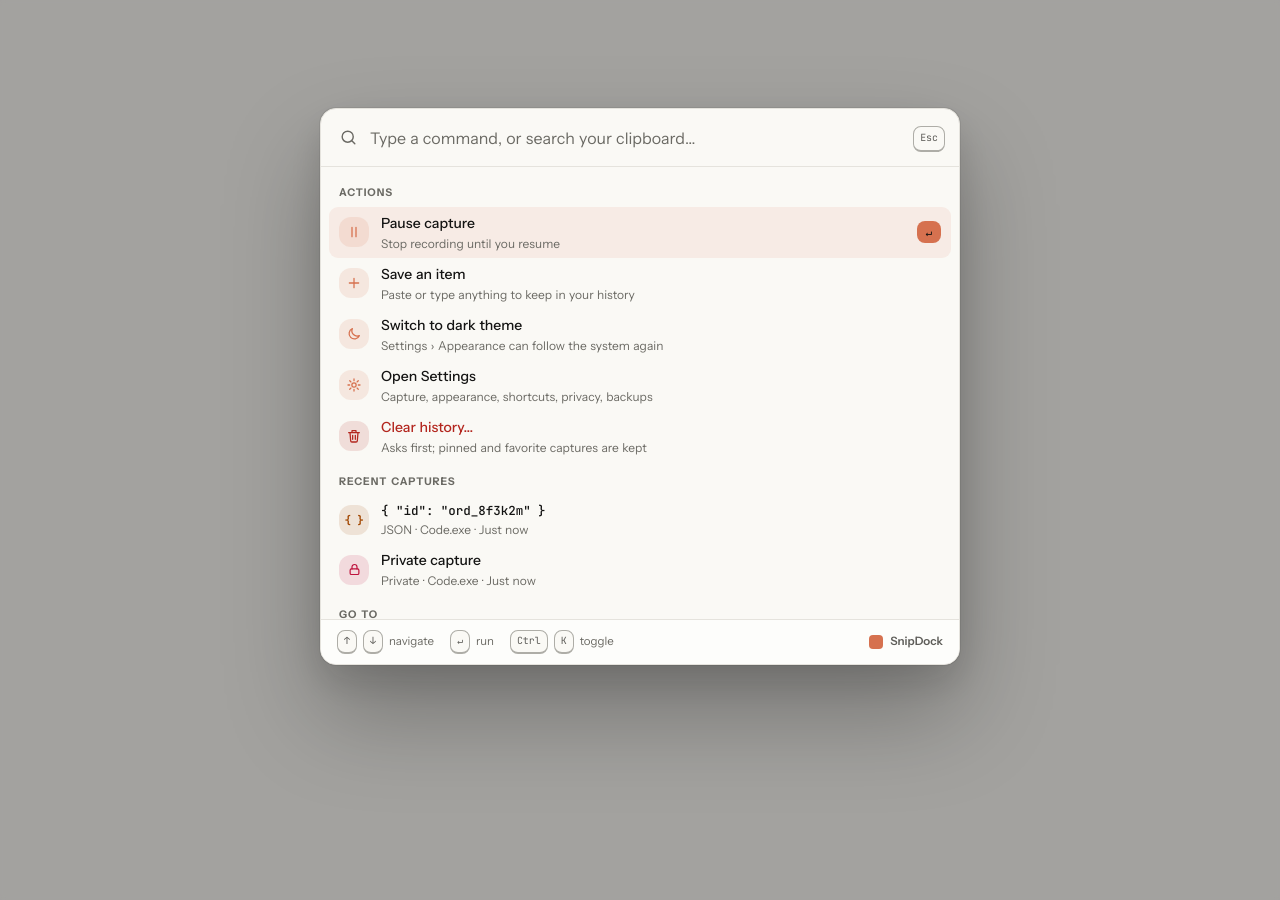
Test: CommandPalette › names a private capture without showing or matching its text
Expected: the text "Private capture" is shown, [381,551,481,569]
Type "sk_live" into the dropdown named "Command or search" at coordinates (636, 138), box [370,109,901,166]
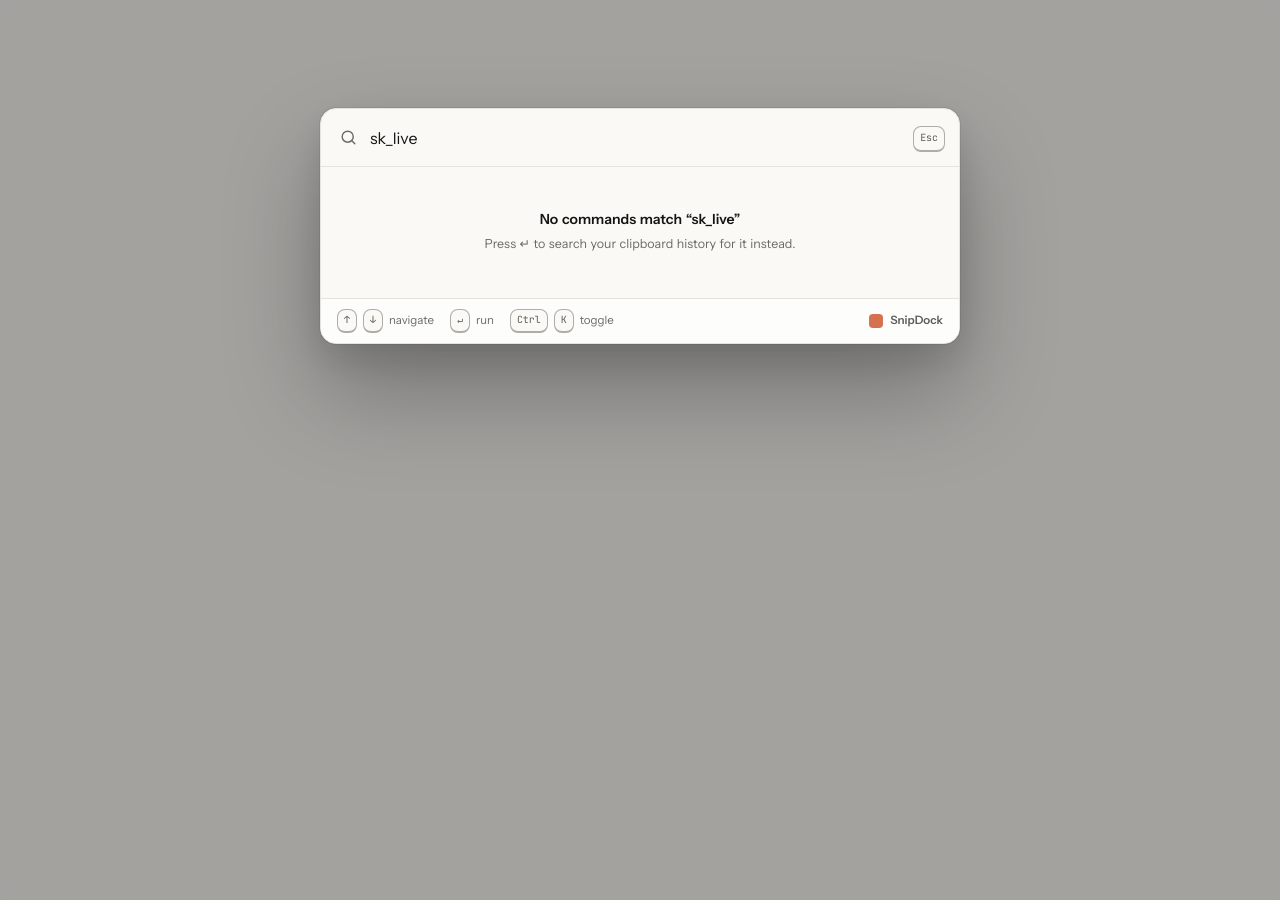
Now the option "Private capture" is gone
